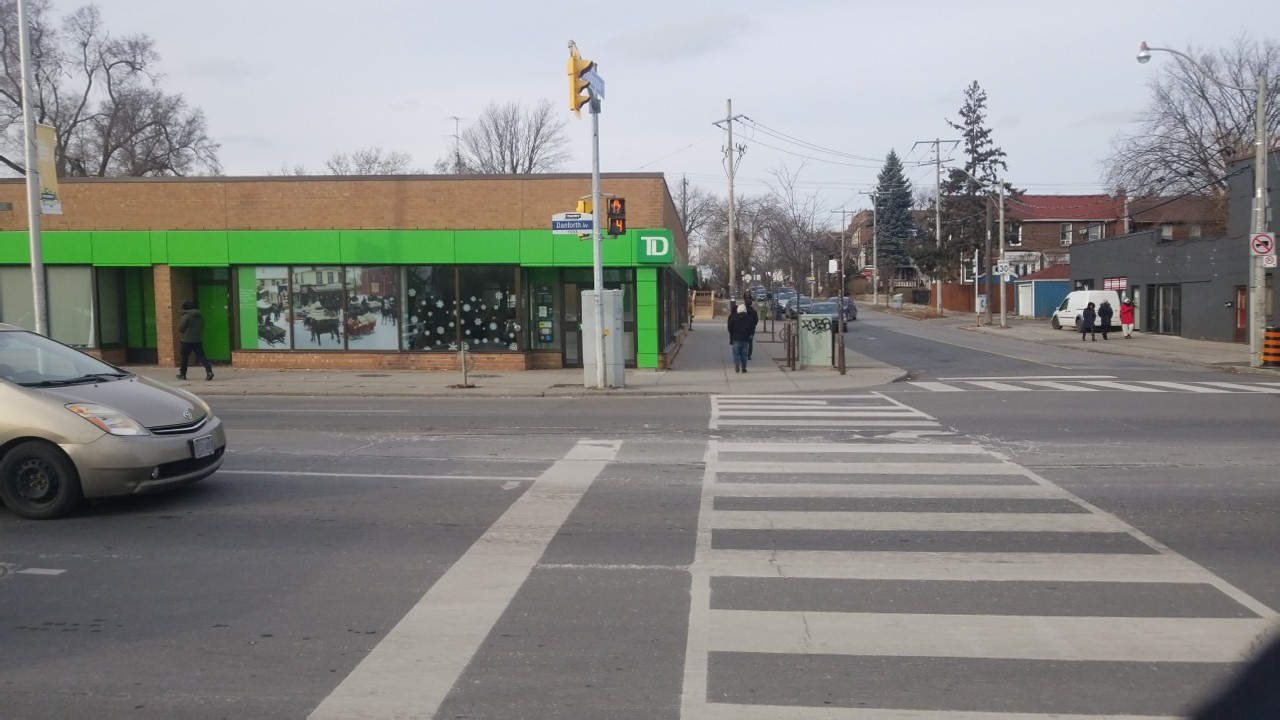light: (604, 194, 629, 237)
